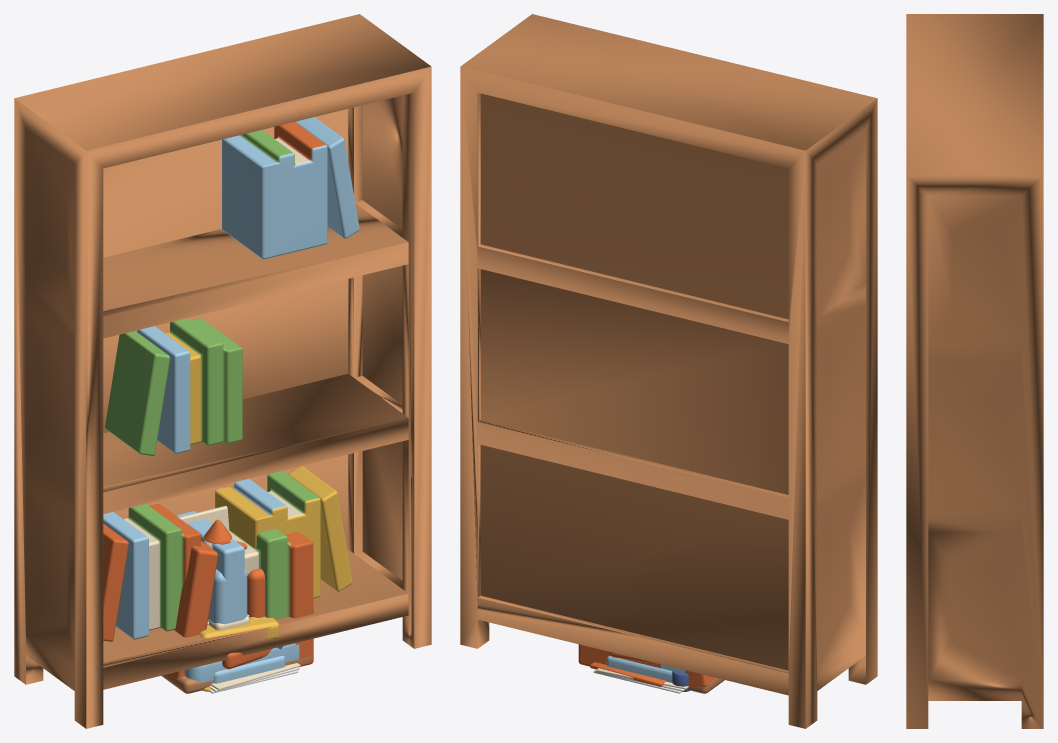
Rendered from interest_book_v3_8_draco_webp.glb.
3 views of the same model, side by side, from view 1: azimuth 30°, elevation 25°; view 2: azimuth 150°, elevation 25°; view 3: azimuth 270°, elevation 25° (orthographic). The views are drawn at different scales.
Visible parts, largest first — view 1: bookshelf_frame, bookshelf, book_stack_books, comic_stack, sf_books, typewriter_base, newspaper; view 2: bookshelf_frame, book_stack_books, comic_stack; view 3: bookshelf_frame.
Part boxes in pixels (bbox=[...]): bookshelf_frame: bbox=[14, 14, 431, 728]; bookshelf: bbox=[103, 117, 359, 641]; book_stack_books: bbox=[169, 511, 313, 678]; comic_stack: bbox=[199, 614, 285, 683]; sf_books: bbox=[208, 568, 265, 630]; typewriter_base: bbox=[184, 643, 299, 682]; newspaper: bbox=[209, 663, 300, 693]; bookshelf_frame: bbox=[460, 14, 877, 728]; book_stack_books: bbox=[578, 644, 716, 688]; comic_stack: bbox=[606, 651, 672, 682]; bookshelf_frame: bbox=[906, 14, 1043, 728].
Bounding box in the file's own units: 0.8 × 1.28 × 0.288.
